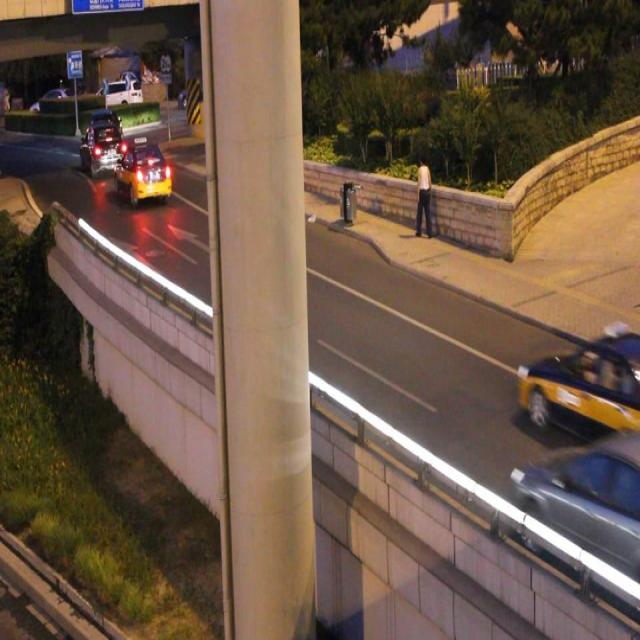car: (512, 442, 640, 578), (520, 326, 640, 448), (116, 142, 171, 200), (82, 124, 126, 172)
